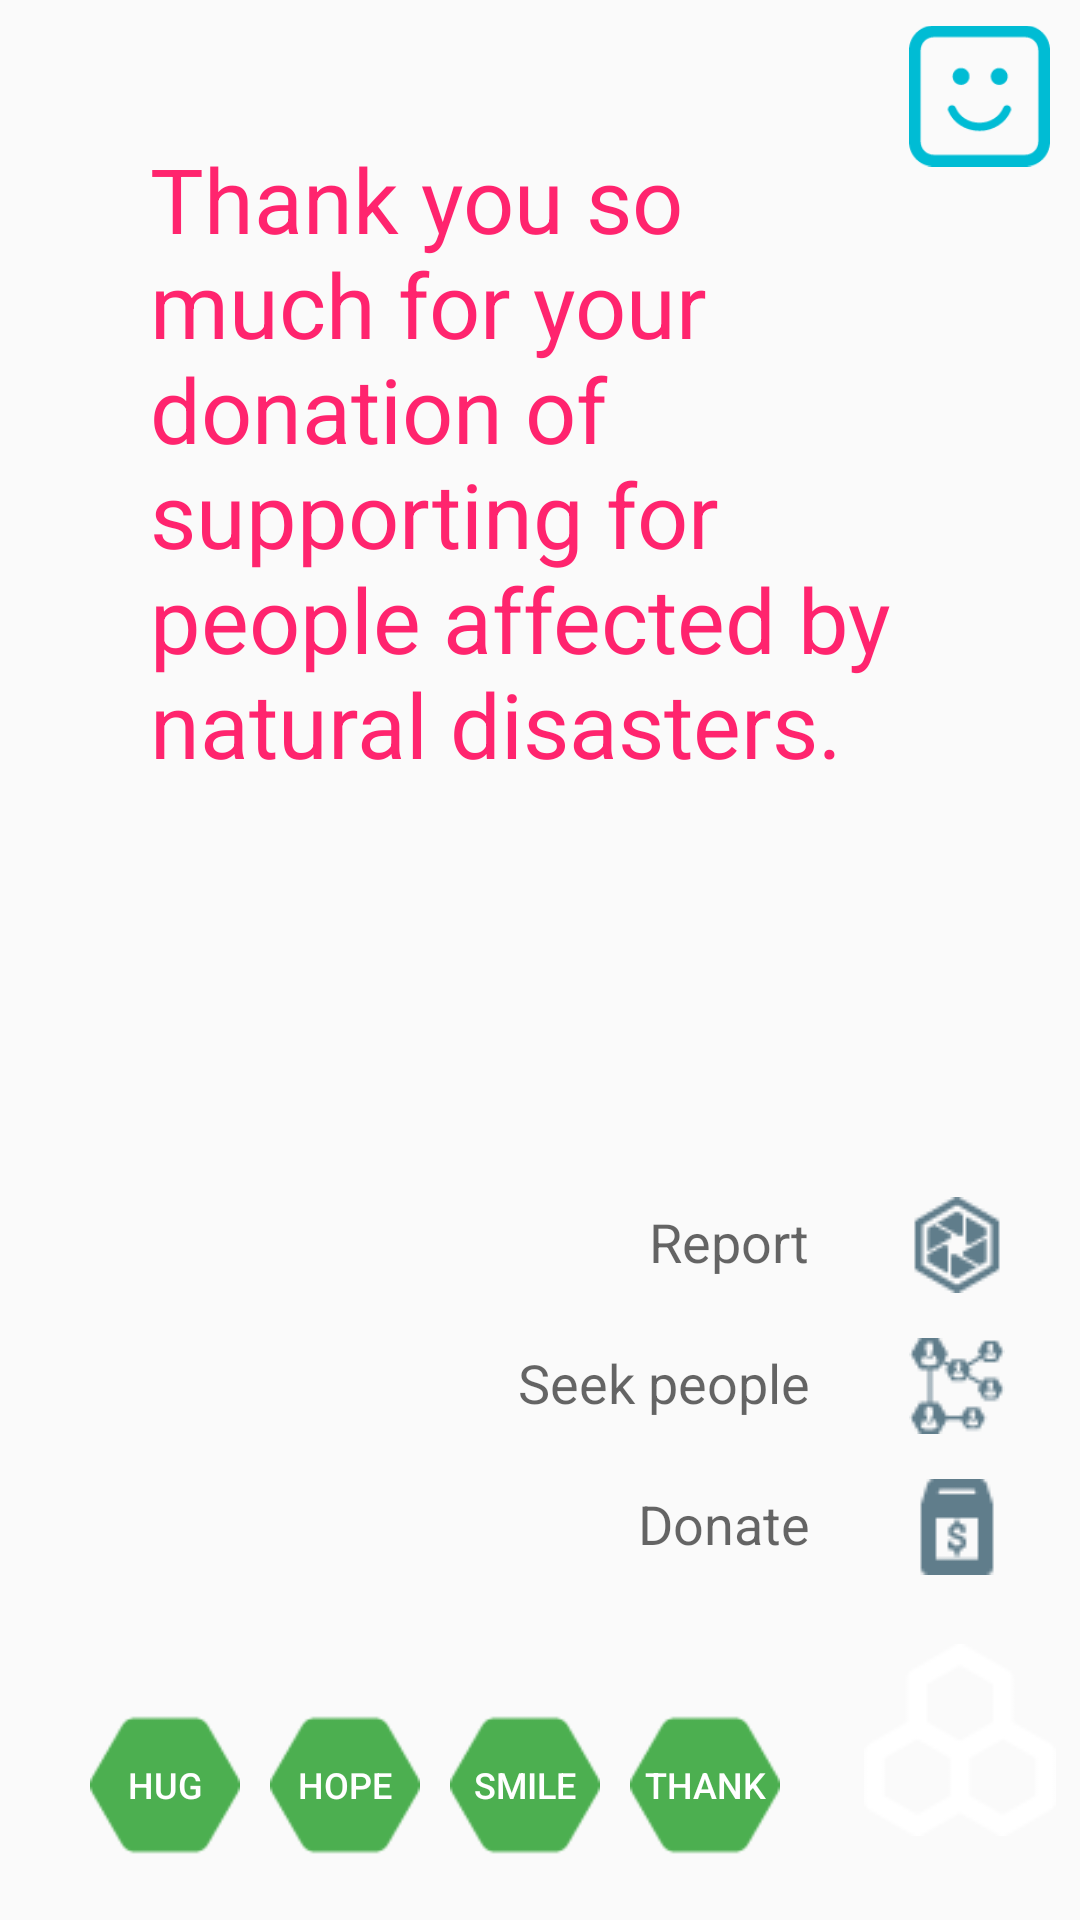

Icon click points for this 1080x1920 phone screenshot, format [x,y]:
network: [957,1386]
smile: [979,96]
